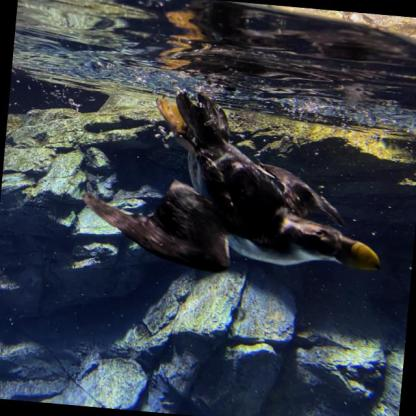puffin: (77, 74, 398, 285)
